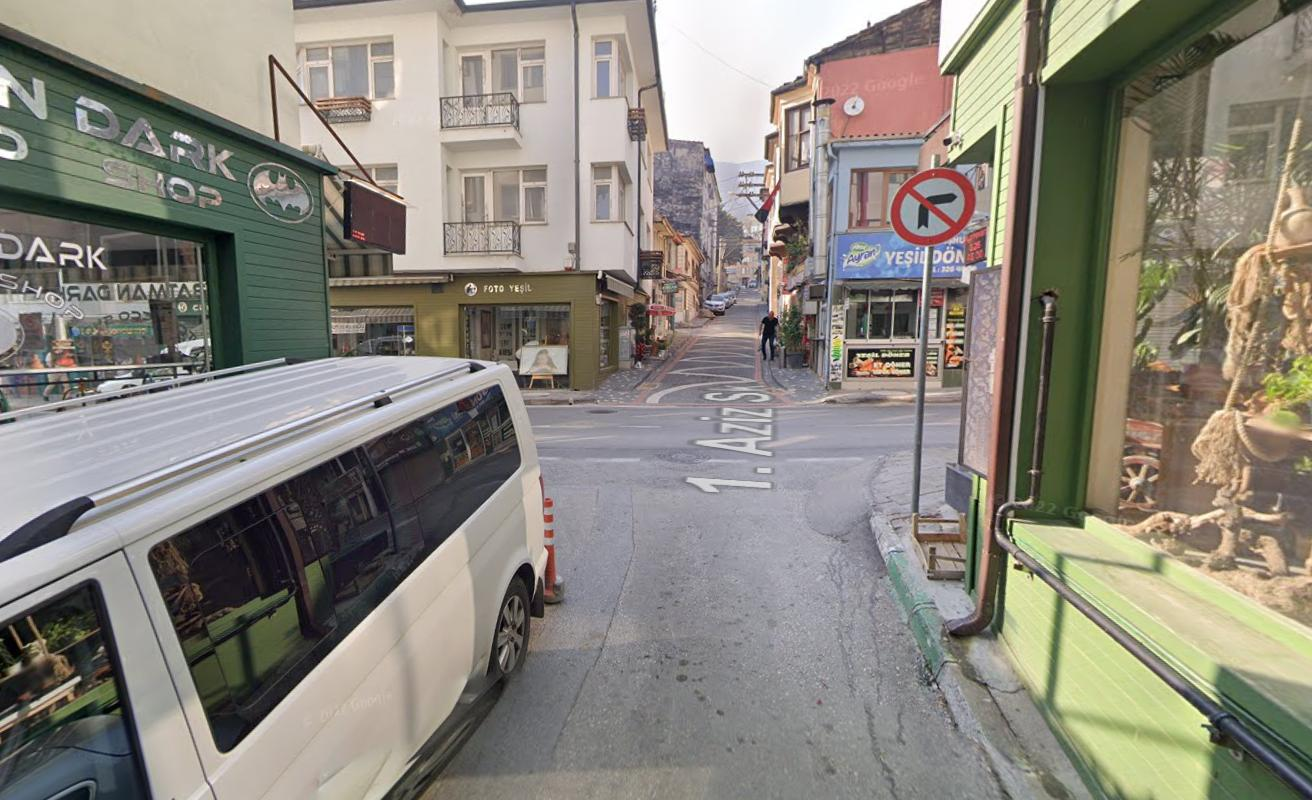rightturnsareforbidden: (895, 170, 970, 233)
